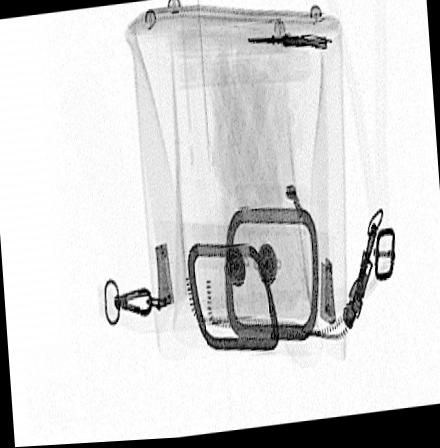Scissors: (246, 36, 330, 55)
